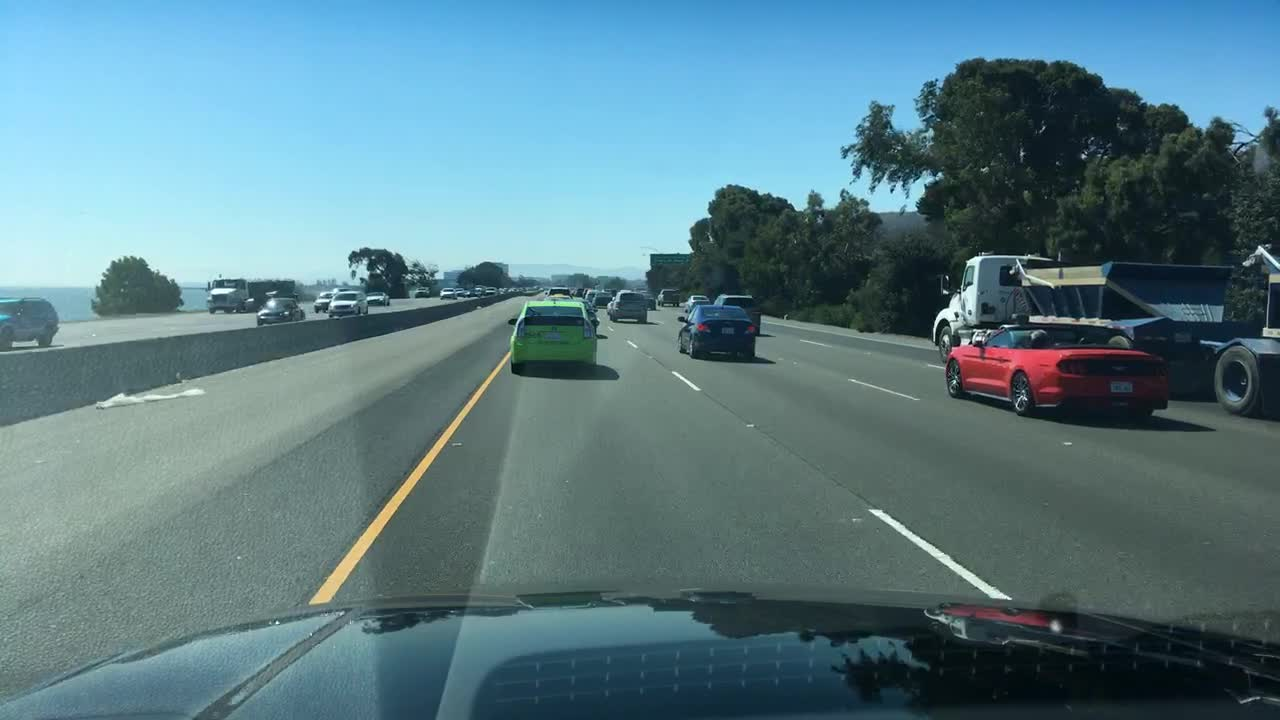car: (944, 322, 1168, 422), (508, 301, 606, 372), (676, 304, 757, 359), (0, 298, 58, 348), (545, 295, 596, 335), (712, 295, 760, 336), (609, 290, 647, 322), (313, 287, 361, 312), (258, 299, 304, 324), (327, 292, 369, 319), (683, 294, 710, 312), (659, 286, 681, 307), (590, 290, 613, 310), (366, 290, 388, 305), (545, 287, 570, 299), (642, 290, 655, 312), (413, 284, 431, 298), (583, 287, 597, 304), (439, 287, 457, 300), (468, 284, 480, 297), (453, 286, 467, 295), (482, 286, 495, 294), (508, 284, 518, 294), (496, 286, 506, 295), (580, 287, 588, 298), (518, 284, 527, 293), (525, 286, 535, 291)
traffic sign: (651, 253, 694, 268)
truck: (933, 247, 1278, 413), (205, 277, 297, 314)
